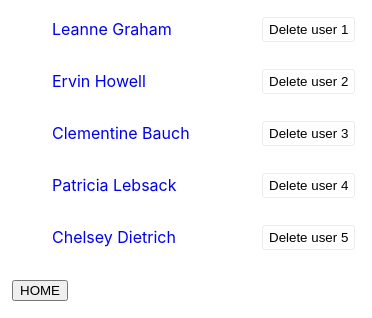
UsersList component › deletes user
Click the button "Delete user 1" at (309, 29), box [262,16,355,42]
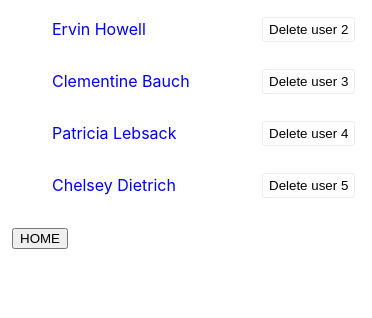
Result: the text "Leanne Graham" is gone
